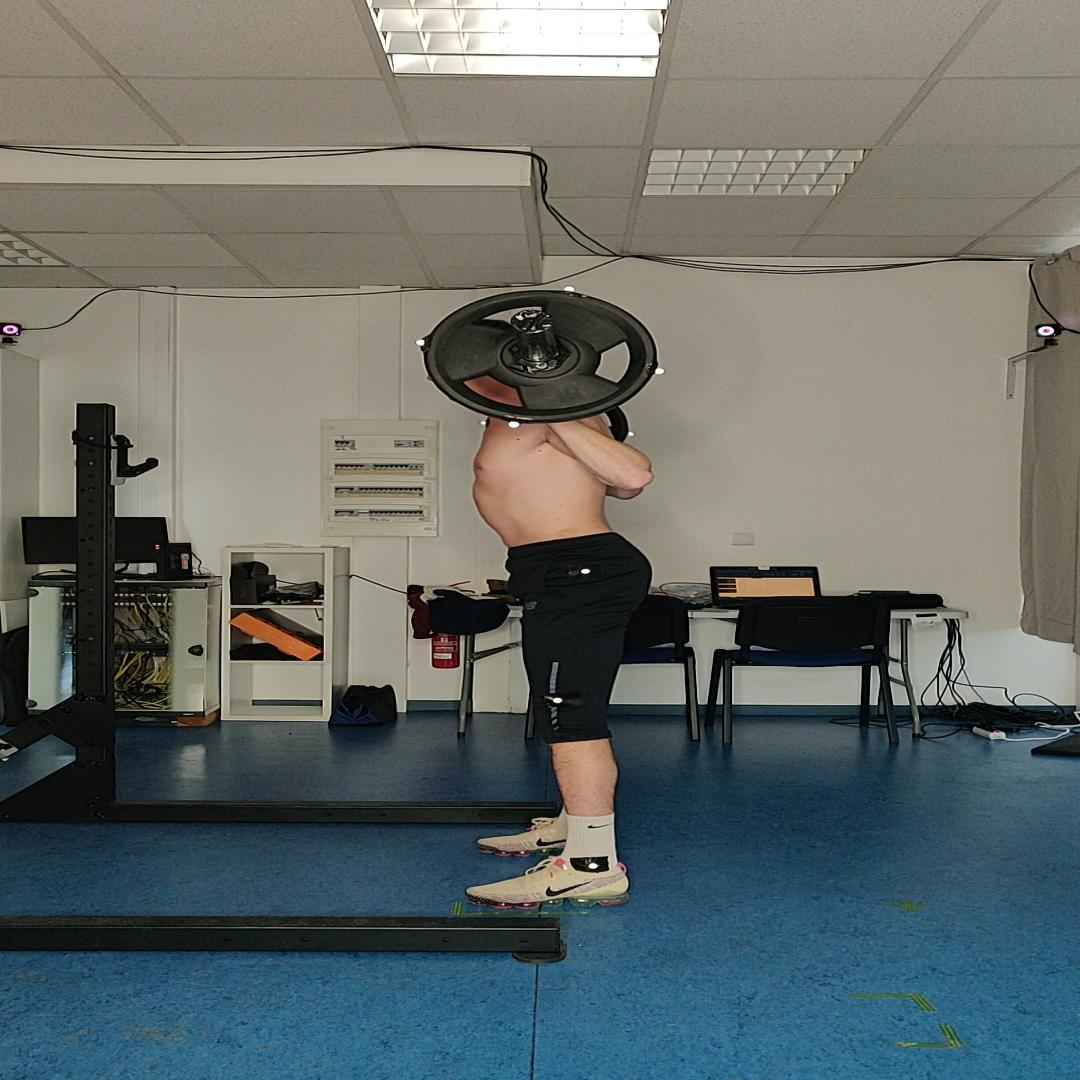Bar: (511, 309, 554, 334)
Barbell: (424, 290, 658, 424)
